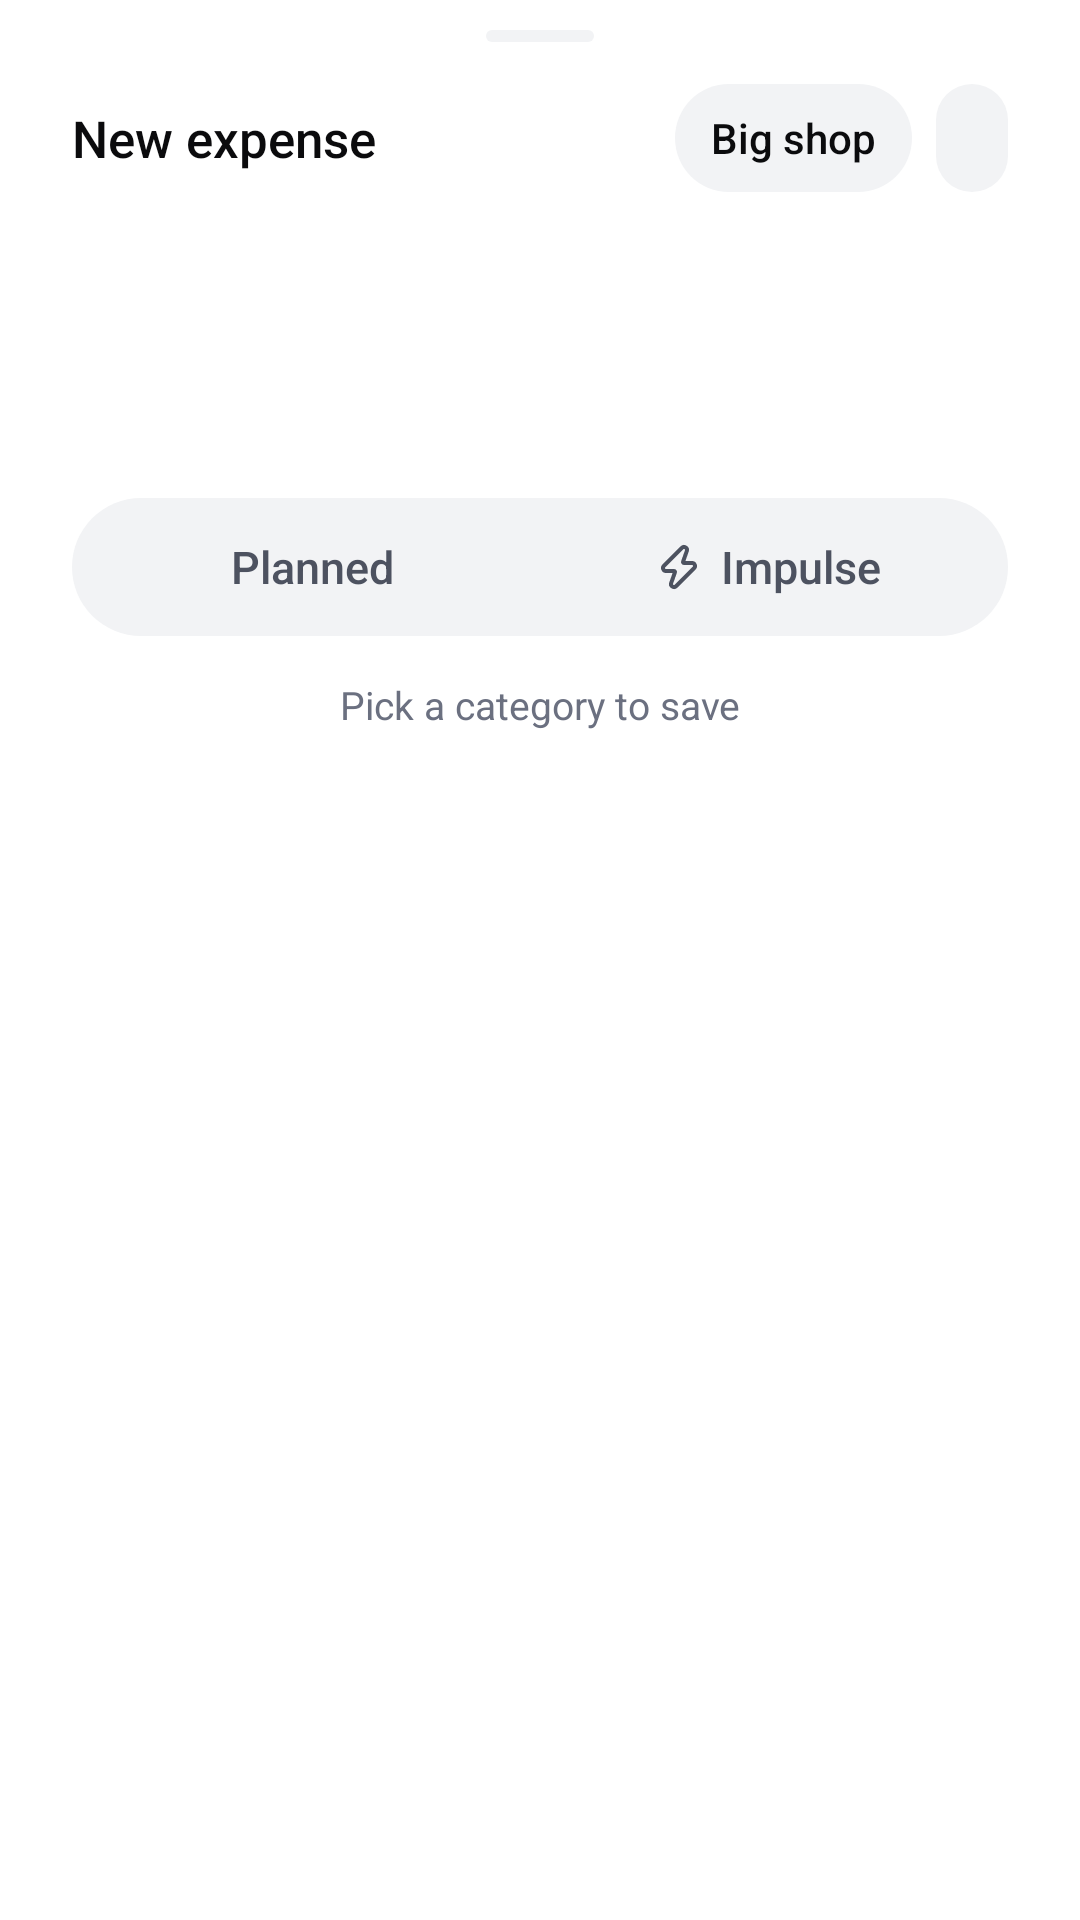

Icon click points for this 1080px x 1920px phone screenshot, format (x=x, y=y):
zap: (x=679, y=567)
